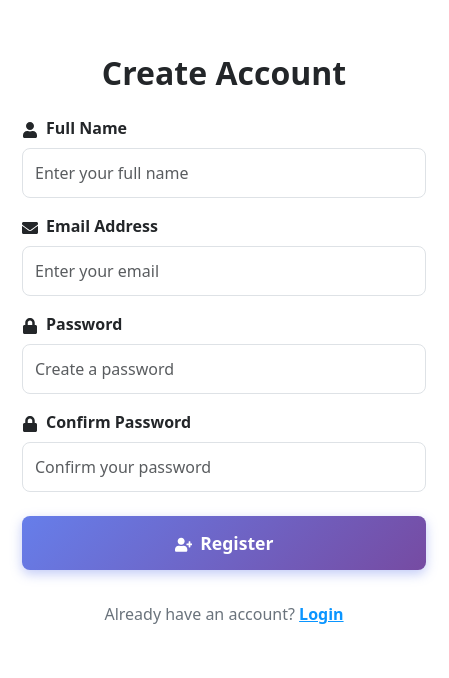
it: Auth Components › Register Component › shows an error when passwords do not match
Type "TestUser" into the field with placeholder "Enter your full name" at (224, 173), box [22,148,426,198]
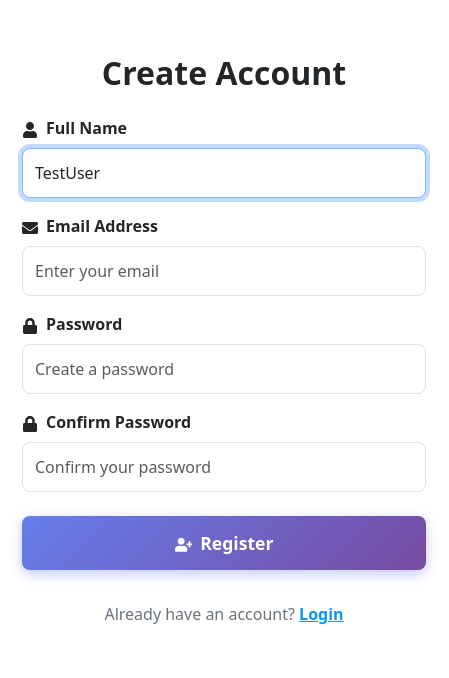
Type "test@test.com" into the field with placeholder "Enter your email" at (224, 271), box [22,246,426,296]
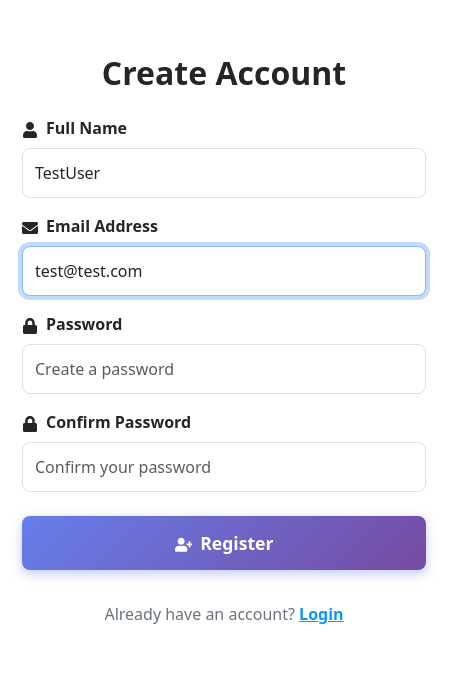
Type "password123" into the password field with placeholder "Create a password" at (224, 369), box [22,344,426,394]
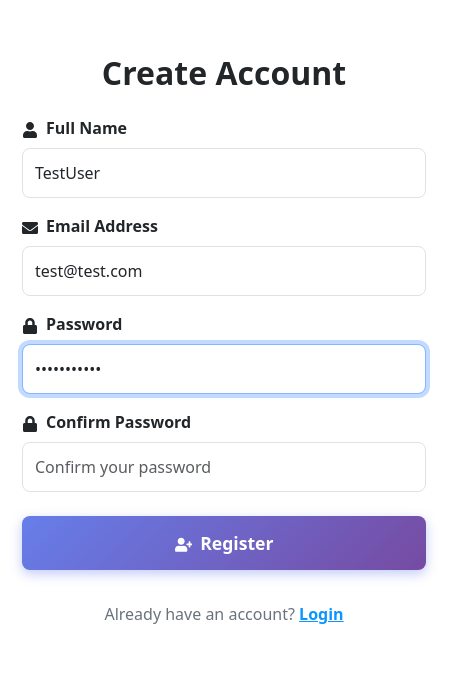
Type "different456" into the password field with placeholder "Confirm your password" at (224, 467), box [22,442,426,492]
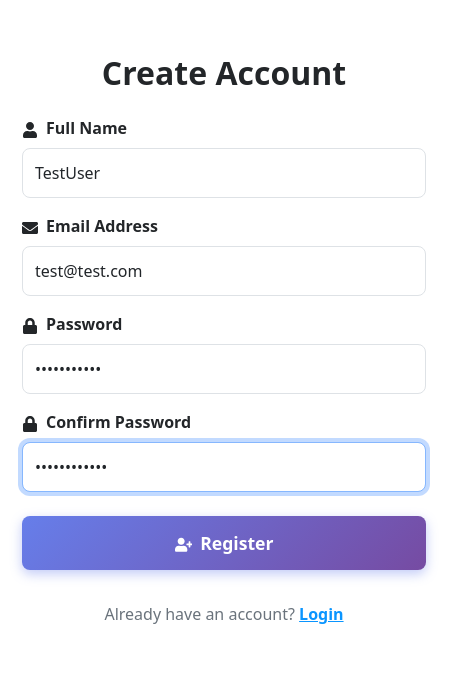
Click the button "Register" at (224, 543), box [22,516,426,570]
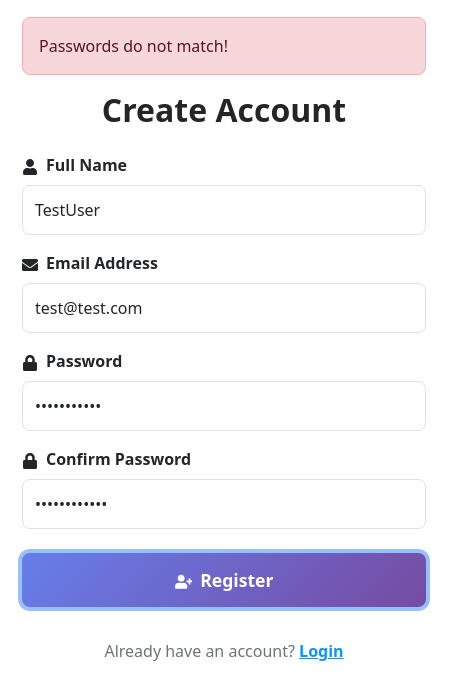
Expected: the text "Passwords do not match!" is shown, [22,17,426,75]
